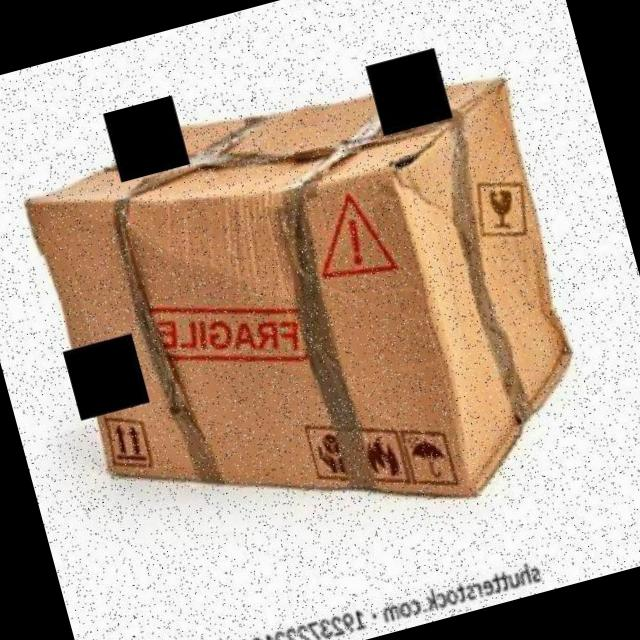box: (0, 35, 620, 600)
